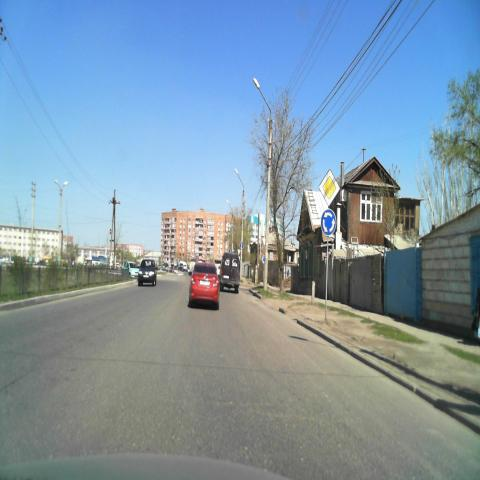4_3: (320, 208, 336, 236)
